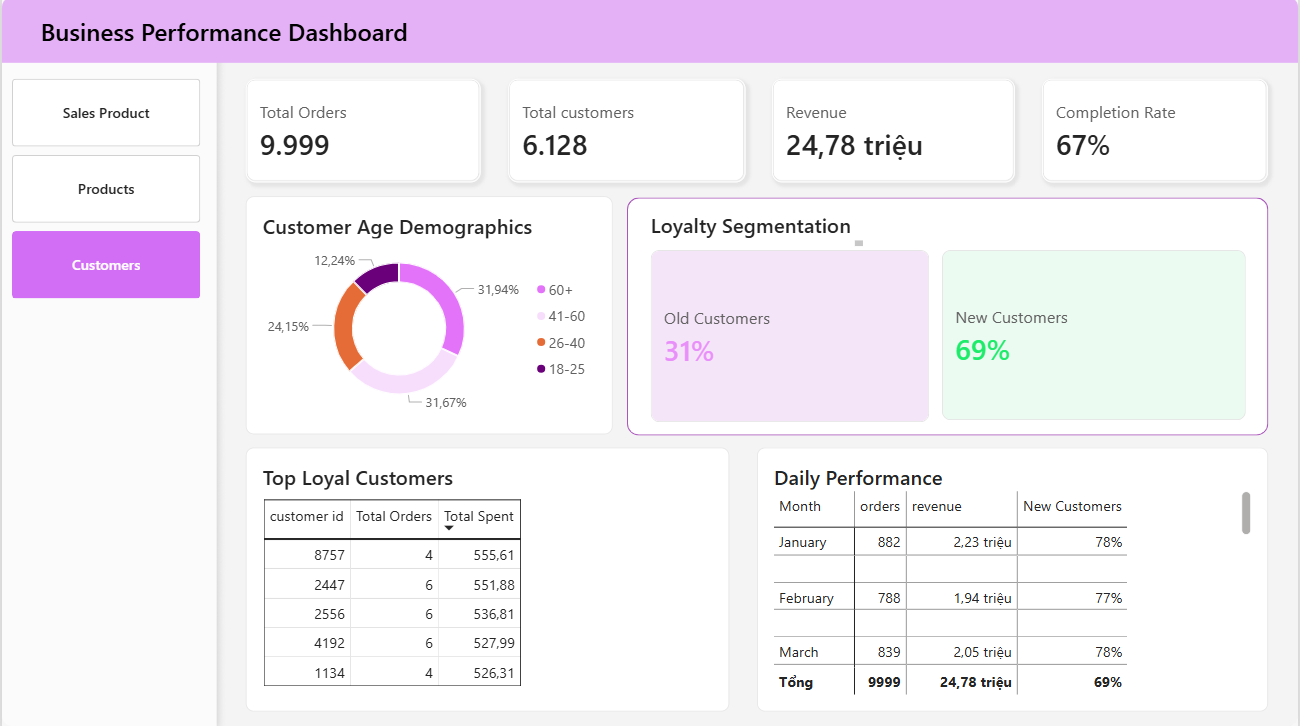

Layout of this report page (visuals, bound fields, positions):
{"tool":"powerbi","page":{"name":"Customers","canvas":[1280,720],"ordinal":2},"visuals":[{"type":"textbox","title":"Business Performance Dashboard ","box":[25.7,14.3,387.1,54.3],"z":0},{"type":"cardVisual","fields":{"Data":["CountNonNull(orders.order id)"]},"box":[241.1,77.8,232.2,102.2],"z":1000},{"type":"cardVisual","fields":{"Data":["Count(orders.customer id)"]},"box":[500,77.8,234.4,102.2],"z":2000},{"type":"cardVisual","fields":{"Data":["*Measure table.M_revenue"]},"box":[761.1,77.8,240,102.2],"z":3000},{"type":"cardVisual","fields":{"Data":["*Measure table.M_Completion Rate"]},"box":[1027.8,77.8,223.3,102.2],"z":4000},{"type":"donutChart","title":"Customer Age Demographics","fields":{"Category":["customer.Age Group"],"Y":["CountNonNull(customer.age)"]},"box":[240.9,193.3,362.1,235.2],"z":5000},{"type":"pivotTable","title":"Daily Performance","fields":{"Rows":["orders.order date.Variation.Date Hierarchy.Year","orders.order date.Variation.Date Hierarchy.Month"],"Values":["CountNonNull(orders.order id)","*Measure table.M_revenue","*Measure table.New Customers"]},"box":[745.9,441.5,505,261.1],"z":6000},{"type":"pageNavigator","box":[9.7,77.2,187,217.2],"z":7000},{"type":"group","id":"g1","title":"Group 1","box":[617.5,194.8,633.4,235.2],"z":8000},{"type":"shape","box":[617.5,194.8,633.4,235.2],"z":9000,"group":"g1"},{"type":"tableEx","title":"Top Loyal Customers","fields":{"Values":["orders.customer id","*Measure table.M_Total Orders by Customer","*Measure table.M_Total Spent"]},"box":[240.8,441.7,477.5,260.8],"z":9000},{"type":"textbox","title":"Loyalty Segmentation","box":[640.6,207.8,209.2,34.6],"z":10000,"group":"g1"},{"type":"cardVisual","title":"Old Customers","fields":{"Data":["*Measure table.M_Old Customers"]},"box":[640.6,246.3,275,170],"z":11000,"group":"g1"},{"type":"cardVisual","fields":{"Data":["*Measure table.New Customers"]},"box":[928.1,246.3,300,168.8],"z":12000,"group":"g1"}]}

Visuals, with their boxes in screenshot pixels (x1, y1, x2, y2), scaled from the page's 1280x720 canvas onto the 1300x726 screenshot:
"Business Performance Dashboard " textbox: (26,14,419,69)
cardVisual - CountNonNull(orders.order id): (245,78,481,182)
cardVisual - Count(orders.customer id): (508,78,746,182)
cardVisual - *Measure table.M_revenue: (773,78,1017,182)
cardVisual - *Measure table.M_Completion Rate: (1044,78,1271,182)
"Customer Age Demographics" donutChart: (245,195,612,432)
"Daily Performance" pivotTable: (758,445,1270,708)
pageNavigator: (10,78,200,297)
"Group 1" group: (627,196,1270,434)
shape: (627,196,1270,434)
"Top Loyal Customers" tableEx: (245,445,730,708)
"Loyalty Segmentation" textbox: (651,210,863,244)
"Old Customers" cardVisual: (651,248,930,420)
cardVisual - *Measure table.New Customers: (943,248,1247,419)
